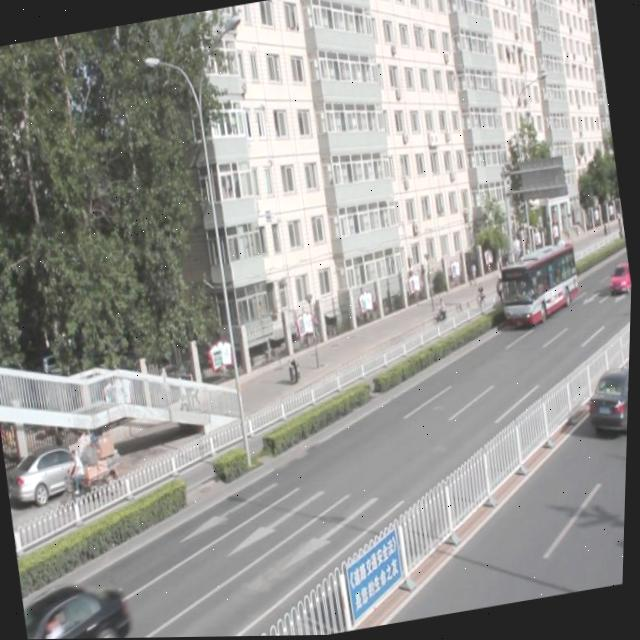car: (23, 570, 143, 640), (581, 361, 631, 441)
van: (497, 240, 585, 329)
